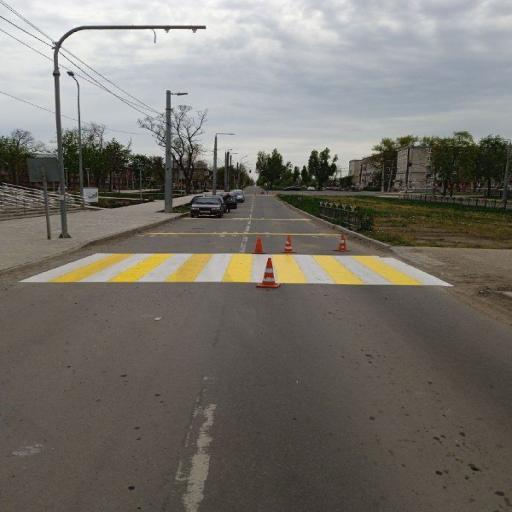bottle: (185, 186, 230, 218)
chair: (235, 230, 356, 252)
closet: (7, 249, 452, 286)
phone: (44, 18, 217, 241)
